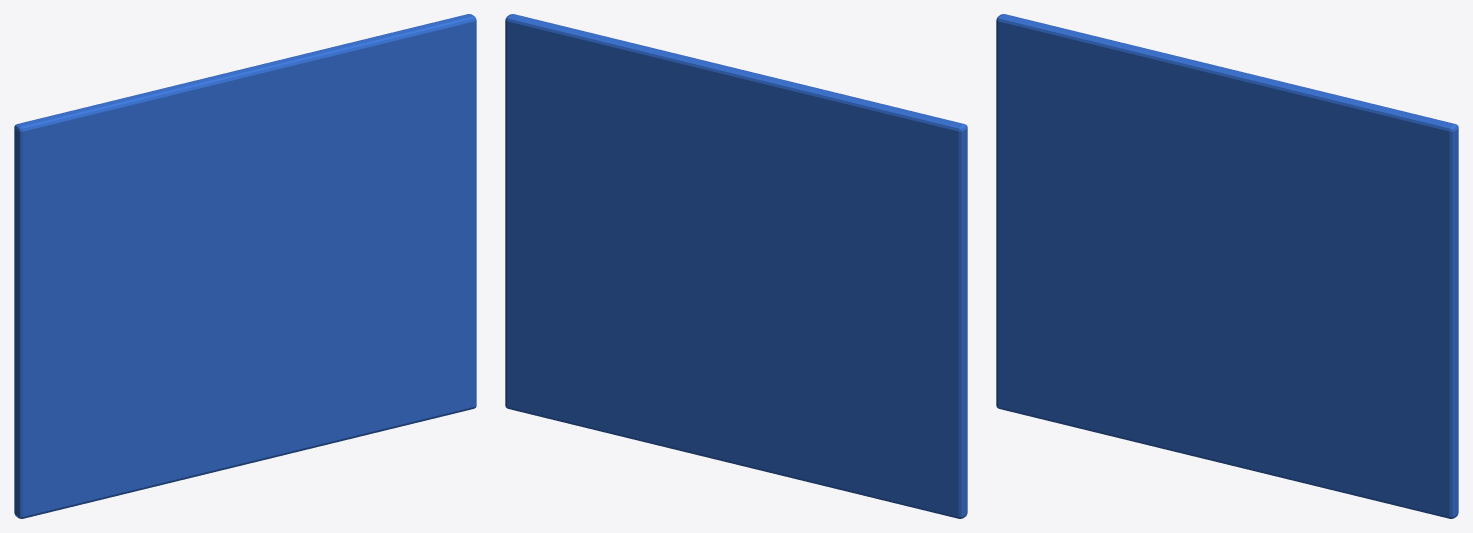
The model's file is GateFlagBlueModel.glb.
The picture shows the model from 3 angles, left to right: view 1: azimuth 30°, elevation 25°; view 2: azimuth 150°, elevation 25°; view 3: azimuth 330°, elevation 25°; orthographic projection.
Parts seen in each view (by area): view 1: GateFlagBlueModel; view 2: GateFlagBlueModel; view 3: GateFlagBlueModel.
Part boxes in pixels (x1,y1,x2,y2): GateFlagBlueModel: (14,14,476,518); GateFlagBlueModel: (505,14,967,518); GateFlagBlueModel: (996,14,1458,518).
Size of the model in its own units: 0.55 by 0.45 by 0.015.
